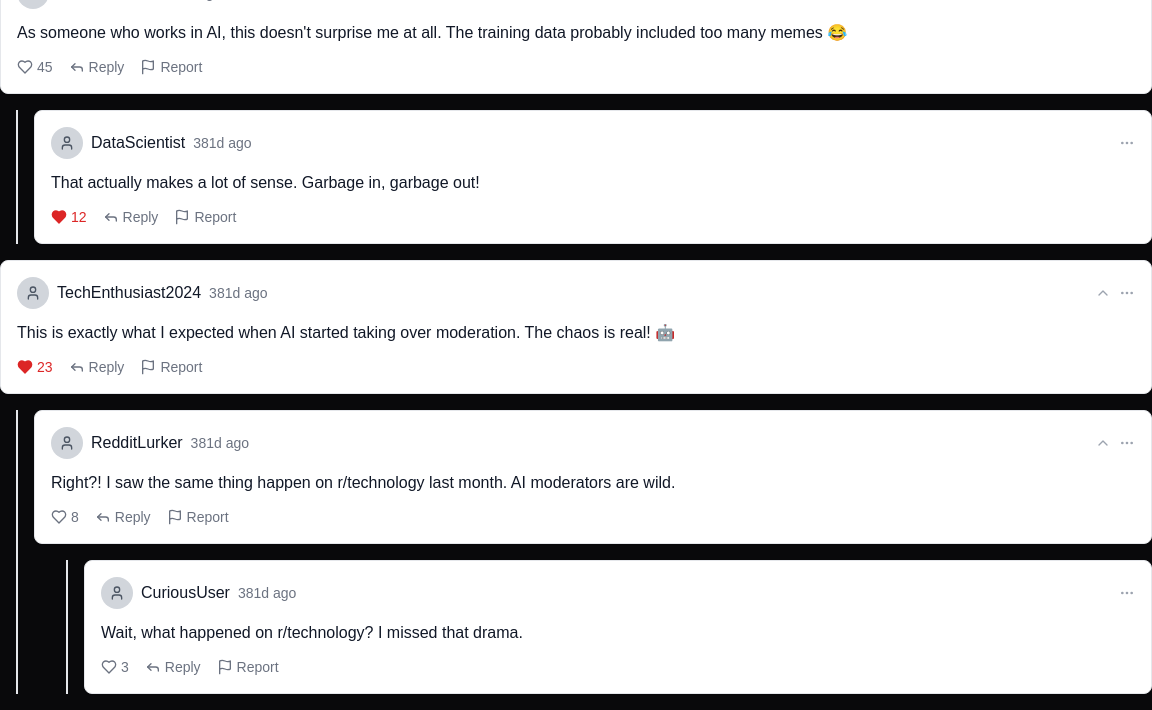
CommentSystem › shows like counts and allows liking
(page scrolled)
Expected: the text "23" is shown, [37,357,53,377]
What coordinates should you click on to do the following:
click the button "23"
I would click on:
 (35, 367)
Its box is [17,357,53,377].
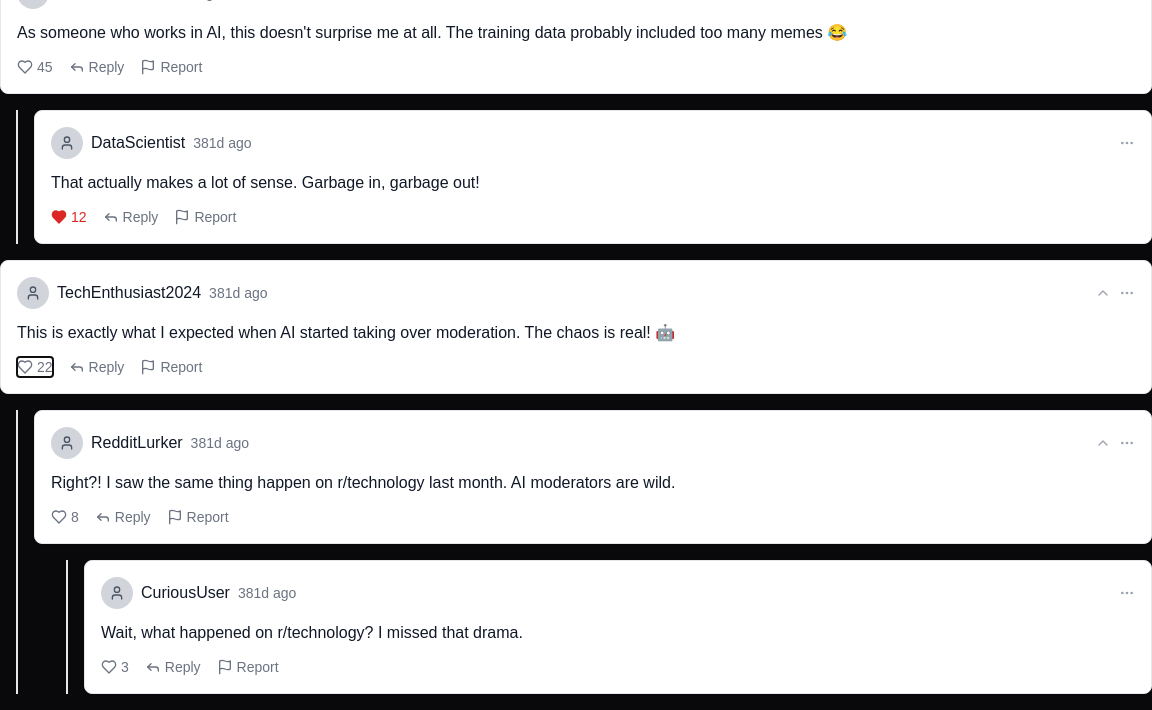
Expected: the text "22" is shown, [37,357,53,377]
